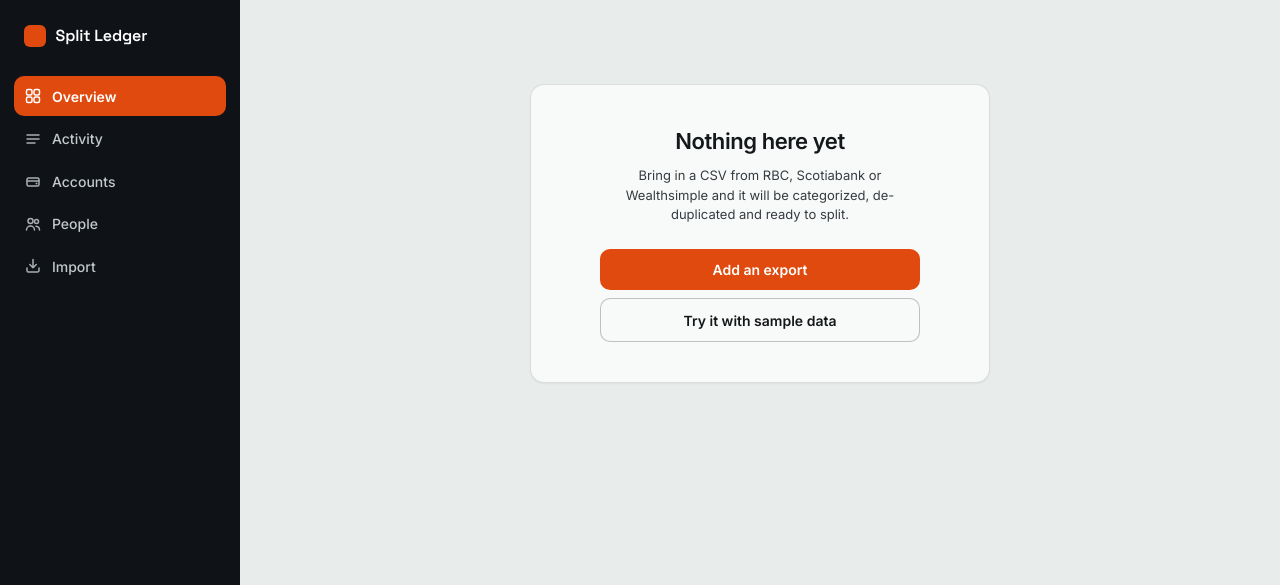
Test: App › separates the status facets from the category facets
Click the button "Try it with sample data".
click(760, 320)  # box [600,298,920,342]
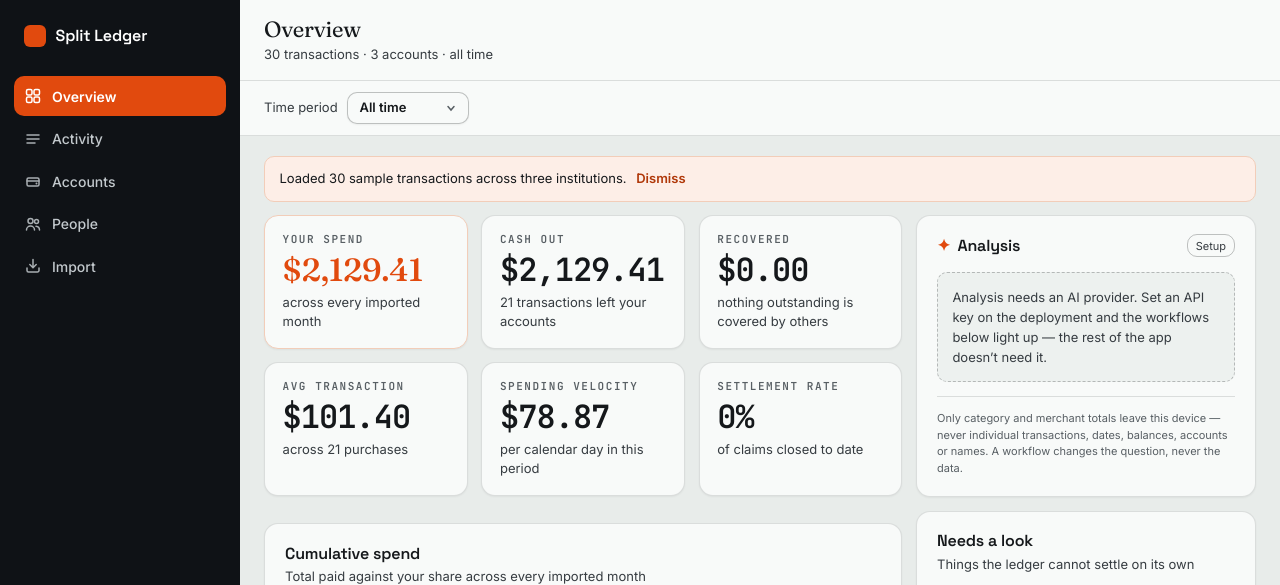
Click the button "Activity".
click(120, 139)  # box [14,119,226,159]
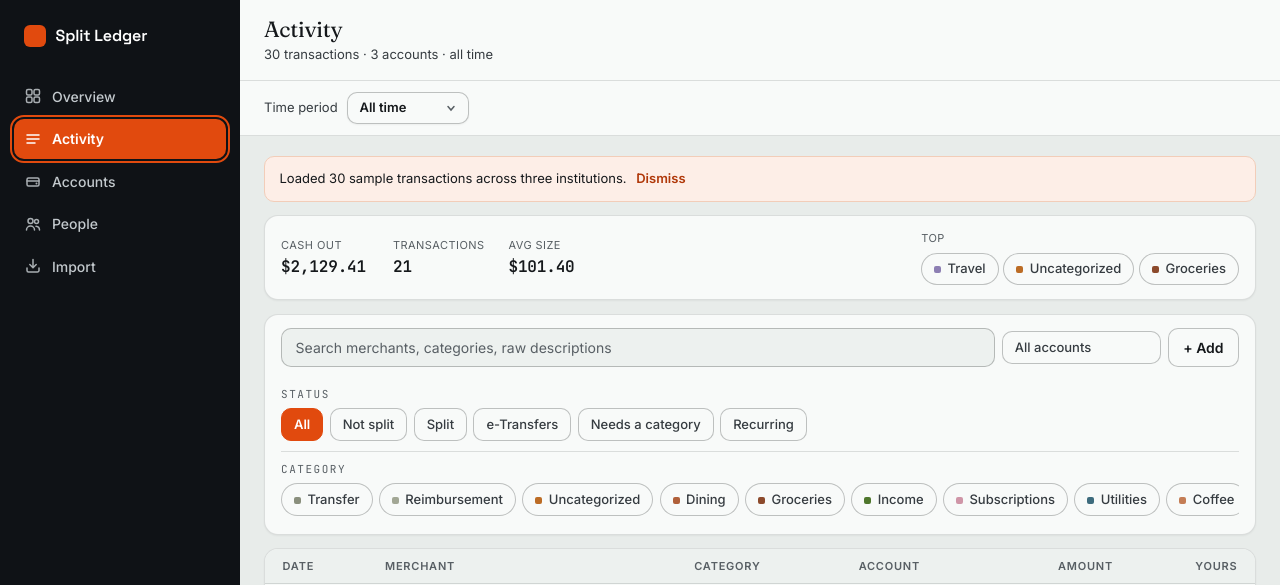
Now the button "Not split" is shown, box [330,408,407,441]
